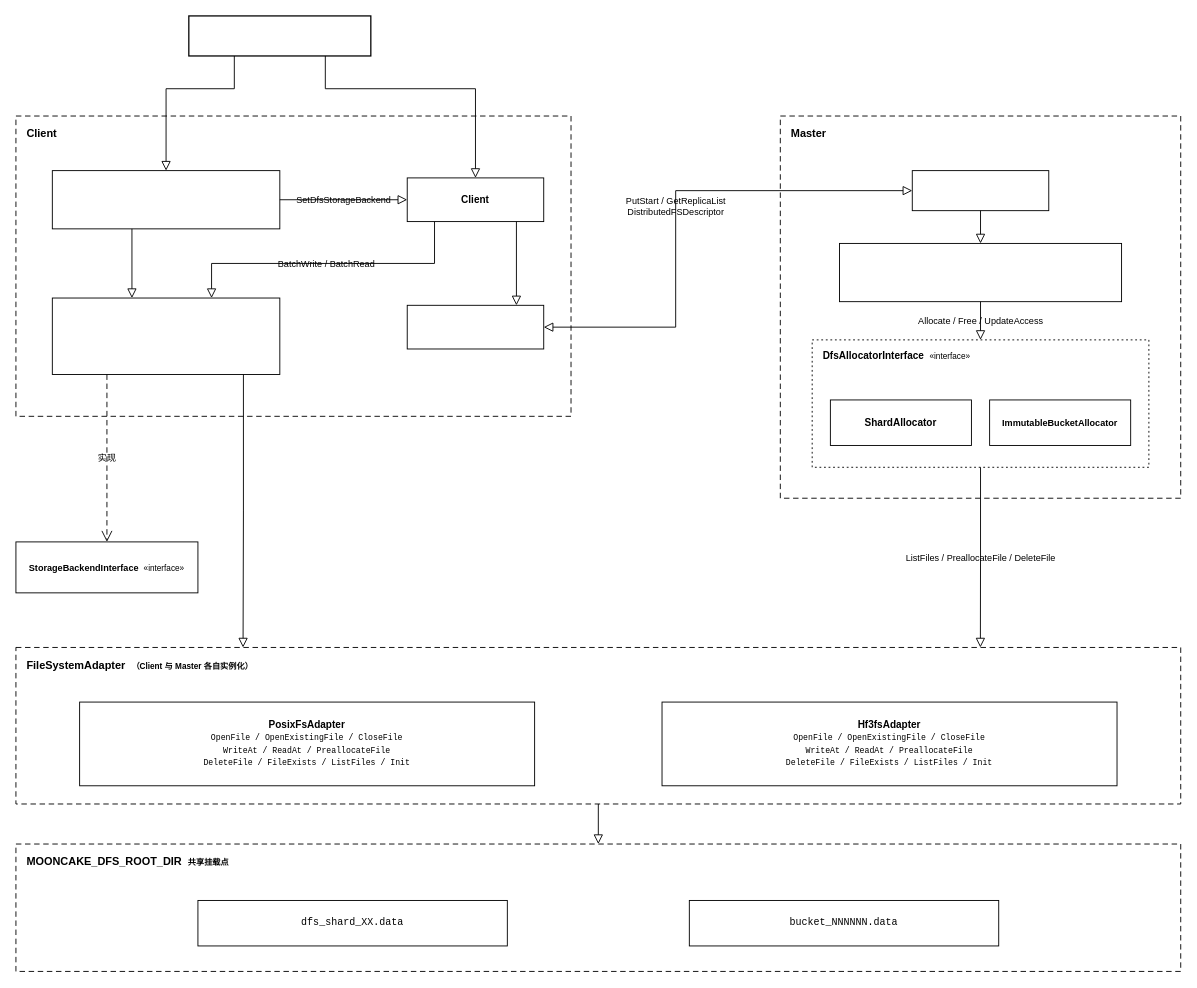
This 1197x988 diagram has some shape labels left out. The centre of each missing label's shape, as x and y in pixels:
DistributedStorageBackend BatchWrite / BatchRead: the point at 165,335
FileStorage CreateStorageBackend: the point at 165,199
MasterClient: the point at 475,326
MasterService PutStart / PutEnd GetReplicaList / RemoveObject: the point at 980,272
RealClient: the point at 279,35
WrappedMasterService: the point at 980,190
